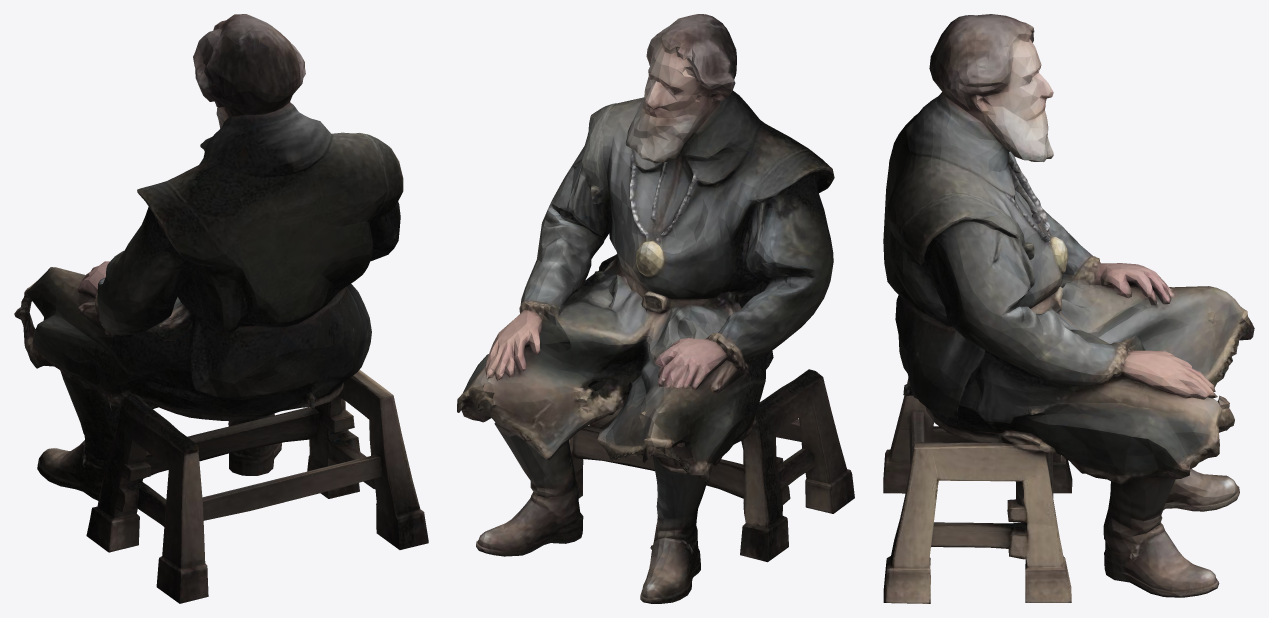
File: council_chancellor.glb
3 renders of one model, left to right at view 1: azimuth 30°, elevation 25°; view 2: azimuth 150°, elevation 25°; view 3: azimuth 270°, elevation 25°, orthographic. The views are drawn at different scales.
Parts seen in each view (by area): view 1: geometry_0; view 2: geometry_0; view 3: geometry_0.
Part boxes in pixels (bbox=[...]): geometry_0: bbox=[14, 14, 428, 603]; geometry_0: bbox=[457, 14, 854, 603]; geometry_0: bbox=[883, 14, 1254, 603].
Bounding box in the file's own units: 0.7784 × 1.3 × 0.8377.
Materials: 1 (1 with a texture image).
